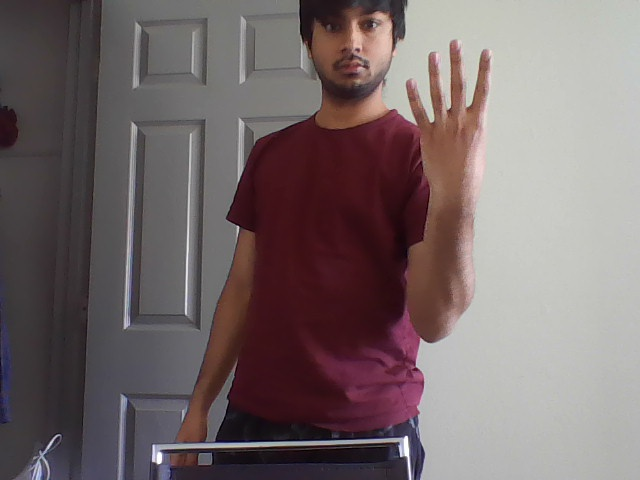four: (401, 34, 498, 128)
